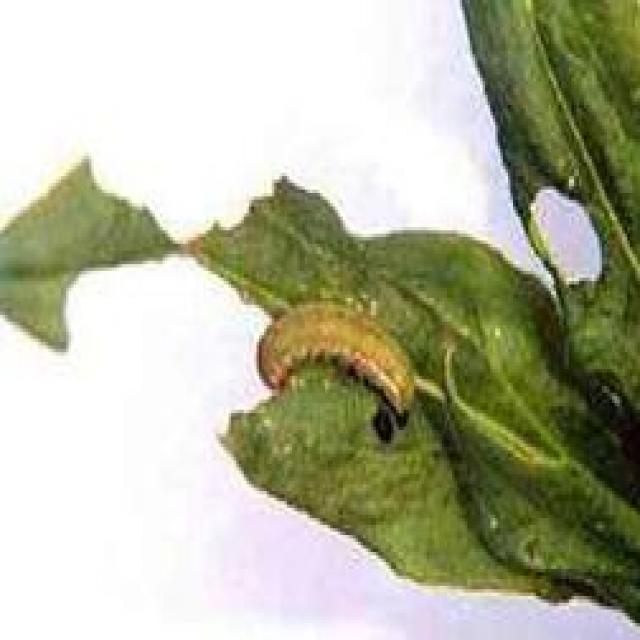BeetArmyWorm-Larva-: (249, 295, 424, 418)
